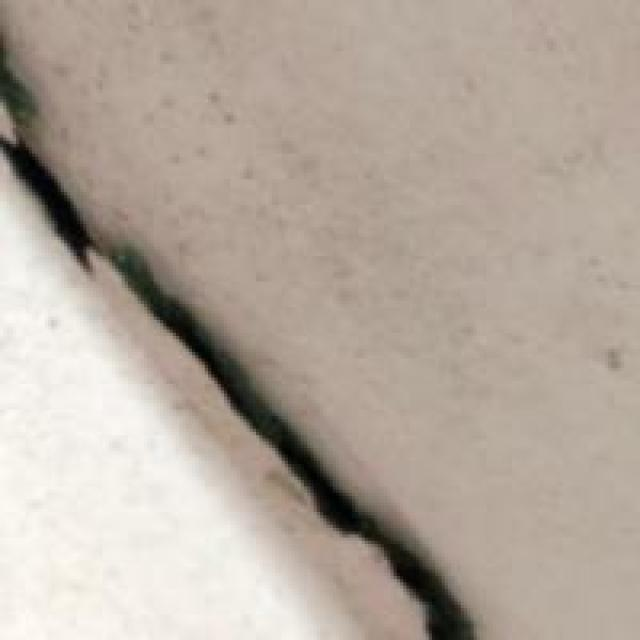Crack: (0, 41, 464, 636)
